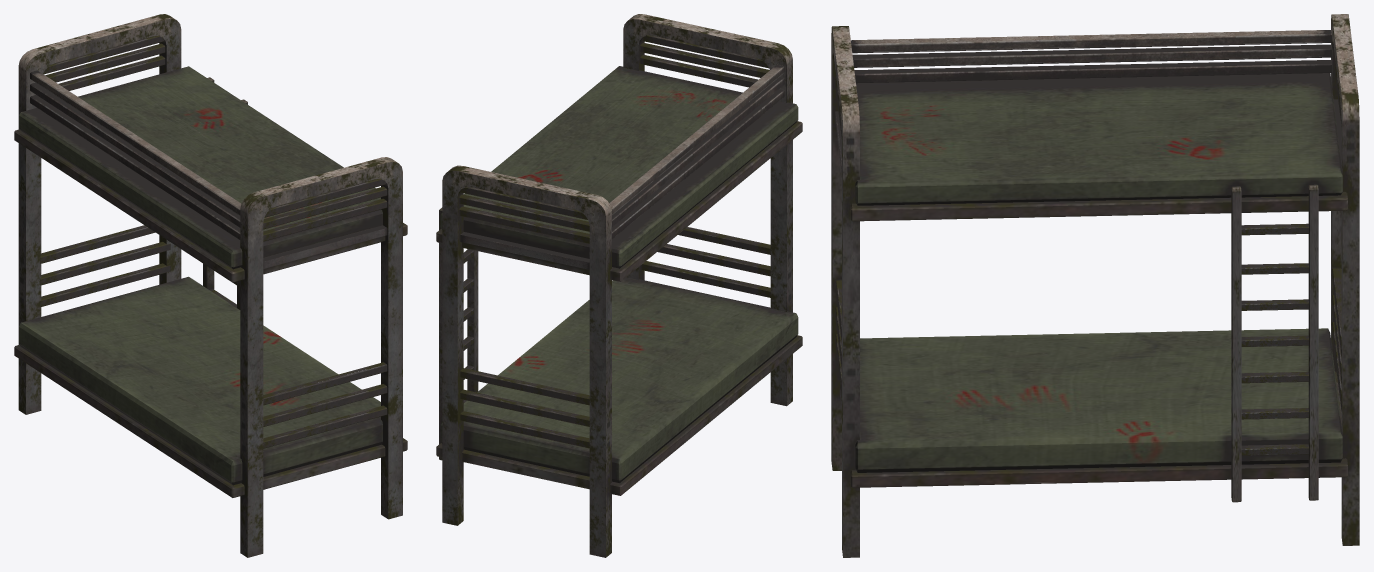
File: bunk_bed.glb
3 renders of one model, left to right at view 1: azimuth 30°, elevation 25°; view 2: azimuth 150°, elevation 25°; view 3: azimuth 270°, elevation 25°, orthographic. The views are drawn at different scales.
Parts seen in each view (by area): view 1: g; view 2: g; view 3: g.
Boxes of the visible parts, left/top/right/bottom form: g: left=14, top=14, right=407, bottom=557; g: left=436, top=14, right=802, bottom=557; g: left=831, top=14, right=1359, bottom=557.
Size of the model in its own units: 1.08 by 1.85 by 2.
Materials: 1 (1 with a texture image).
